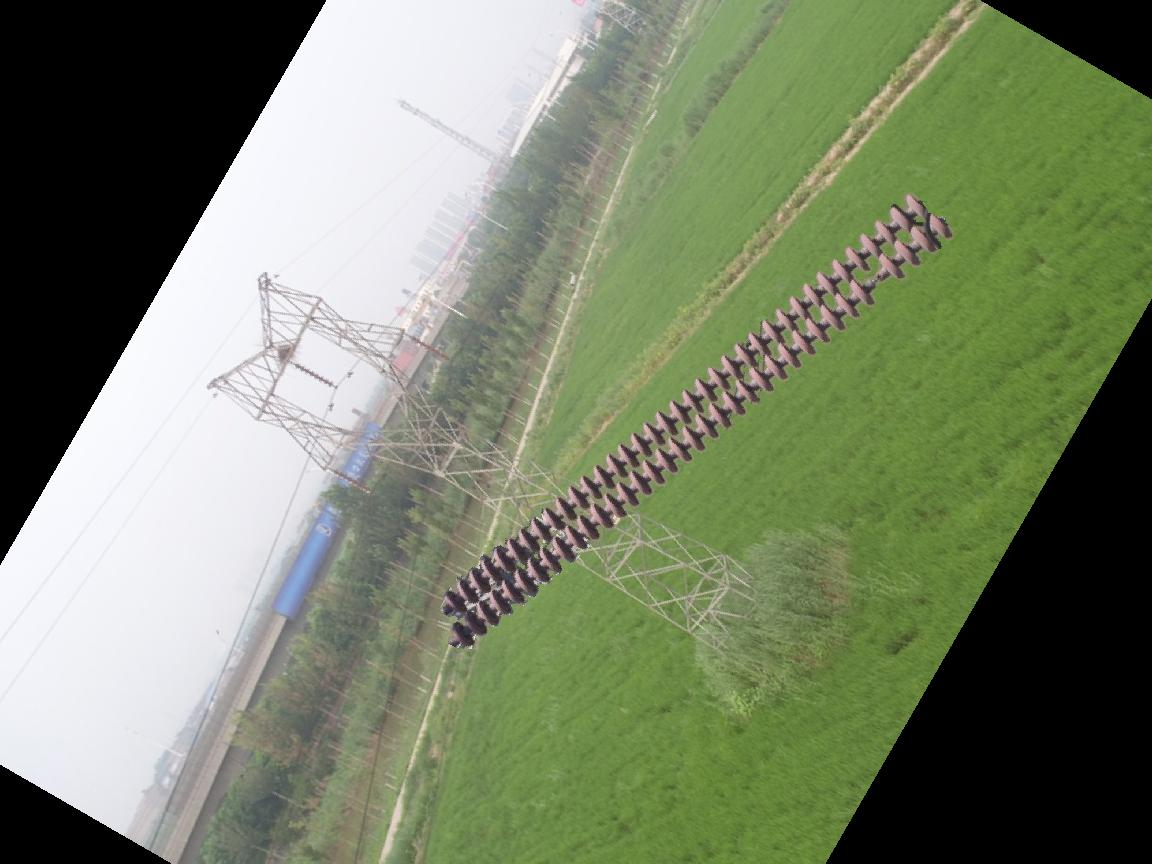insulator: (438, 187, 954, 656), (287, 360, 336, 391)
insulator_stringdrop: (847, 250, 907, 308)
